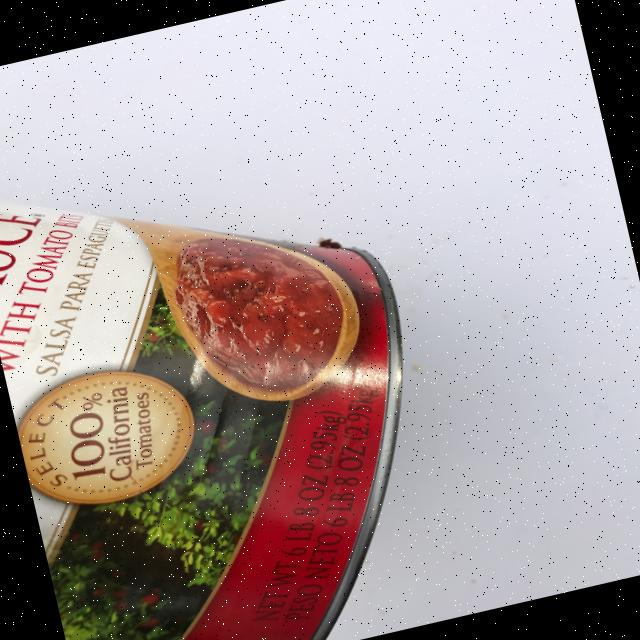metal: (0, 110, 469, 640)
